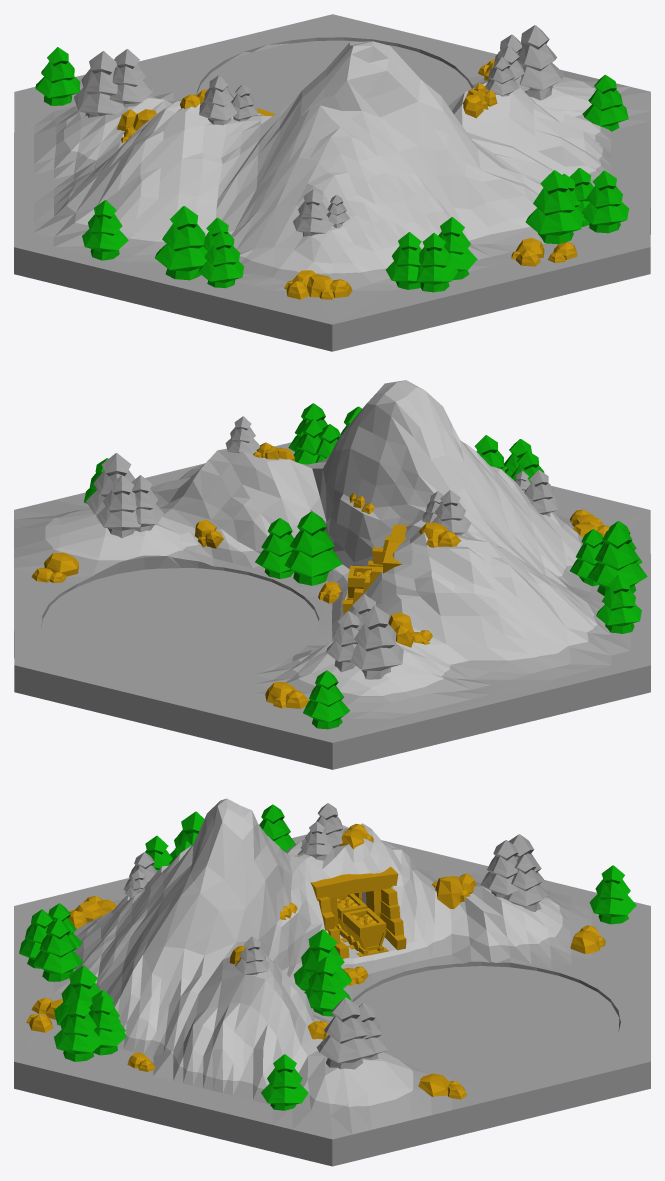
File: ore.glb
3 renders of one model, top to bottom at view 1: azimuth 30°, elevation 25°; view 2: azimuth 150°, elevation 25°; view 3: azimuth 270°, elevation 25°, orthographic.
Parts seen in each view (by area): view 1: ore; view 2: ore; view 3: ore.
Boxes of the visible parts, x1,y1,x2,y2 form: ore: [14, 14, 650, 351]; ore: [14, 380, 650, 769]; ore: [14, 798, 650, 1166].
Bounding box in the file's own units: 74 × 21.84 × 64.
